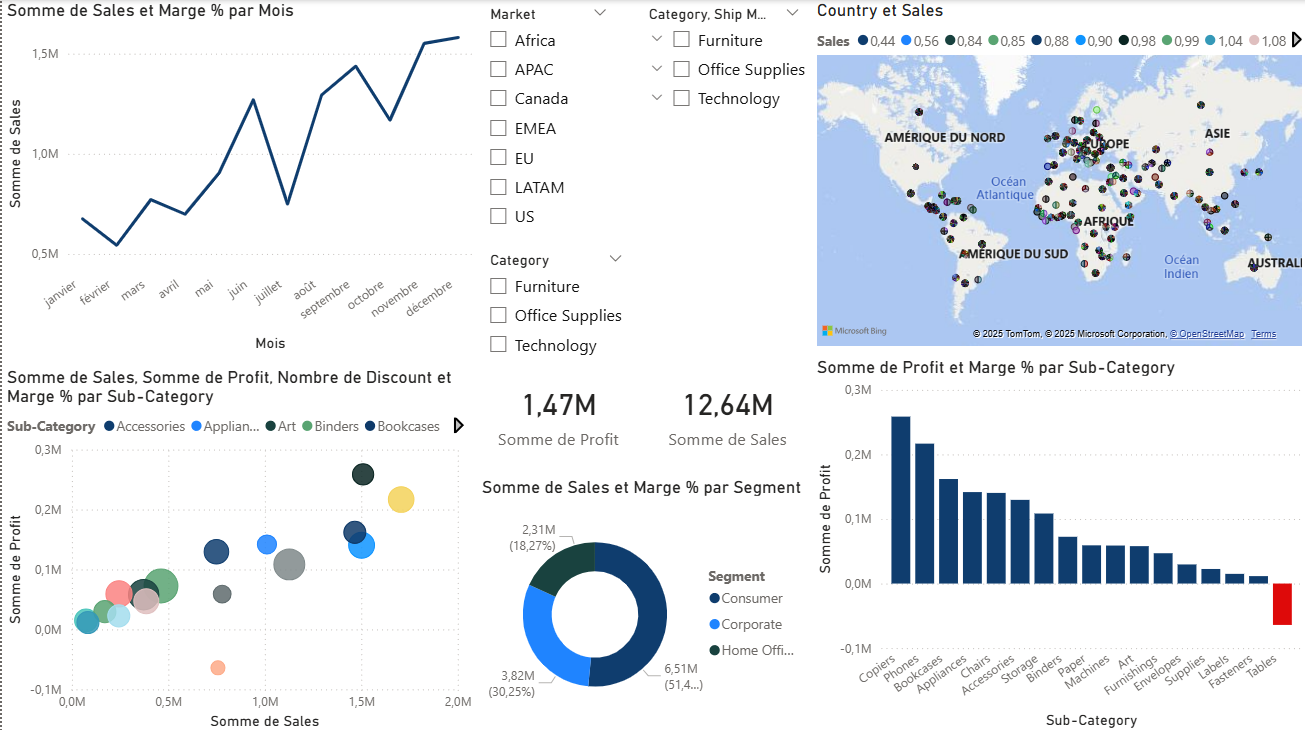

Layout of this report page (visuals, bound fields, positions):
{"tool":"powerbi","page":{"name":"Page 1","canvas":[1280,720],"ordinal":0},"visuals":[{"type":"card","fields":{"Values":["_Measures.Total Profit"]},"box":[461.1,344.4,170.2,123.5],"z":0},{"type":"card","fields":{"Values":["_Measures.Total Sales"]},"box":[631.2,344.4,163.3,123.5],"z":1000},{"type":"lineChart","fields":{"Category":["Global_Superstore2.Order Date","Global_Superstore2.Order Date.Variation.Hiérarchie de dates.Année"],"Y":["_Measures.Total Sales"]},"box":[0,0,466.6,349.9],"z":2000},{"type":"map","fields":{"Category":["Dim_Geography.Country"],"Size":["_Measures.Total Sales"]},"box":[794.5,0,485.8,344.4],"z":3000},{"type":"clusteredColumnChart","fields":{"Y":["_Measures.Total Profit"],"Category":["Dim_Products.Sub-Category"]},"box":[794.5,349.9,485.8,370.5],"z":4000},{"type":"slicer","fields":{"Values":["Dim_Geography.Market"]},"box":[466.6,0,140,234.6],"z":5000},{"type":"donutChart","fields":{"Category":["Dim_Customers.Segment"],"Y":["_Measures.Total Sales"]},"box":[466.6,467.9,328,252.5],"z":6000},{"type":"scatterChart","fields":{"X":["_Measures.Total Sales"],"Y":["Sum(Global_Superstore2.Profit)"],"Size":["CountNonNull(Global_Superstore2.Discount)"],"Series":["Dim_Products.Sub-Category"]},"box":[0,359.5,466.6,360.9],"z":7000},{"type":"slicer","fields":{"Values":["Dim_Products.Category"]},"box":[466.6,241.5,155.1,118],"z":8000},{"type":"slicer","fields":{"Values":["Global_Superstore2.Ship Mode","Dim_Products.Category"]},"box":[621.6,0,172.9,359.5],"z":9000}]}

Visuals, with their boxes in screenshot pixels (x1, y1, x2, y2), scaled from the page's 1280x720 canvas onto the 1305x732 screenshot:
card - _Measures.Total Profit: bbox(470, 350, 644, 476)
card - _Measures.Total Sales: bbox(644, 350, 810, 476)
lineChart - Global_Superstore2.Order Date x Global_Superstore2.Order Date.Variation.Hiérarchie de dates.Année: bbox(0, 0, 476, 356)
map - Dim_Geography.Country x _Measures.Total Sales: bbox(810, 0, 1304, 350)
clusteredColumnChart - _Measures.Total Profit x Dim_Products.Sub-Category: bbox(810, 356, 1304, 731)
slicer - Dim_Geography.Market: bbox(476, 0, 618, 239)
donutChart - Dim_Customers.Segment x _Measures.Total Sales: bbox(476, 476, 810, 731)
scatterChart - _Measures.Total Sales x Sum(Global_Superstore2.Profit): bbox(0, 365, 476, 731)
slicer - Dim_Products.Category: bbox(476, 246, 634, 365)
slicer - Global_Superstore2.Ship Mode x Dim_Products.Category: bbox(634, 0, 810, 365)
